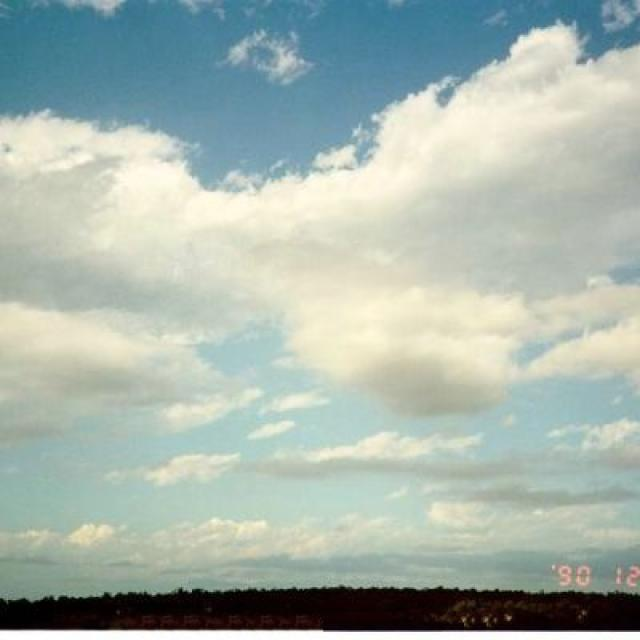St: (105, 35, 640, 451)
